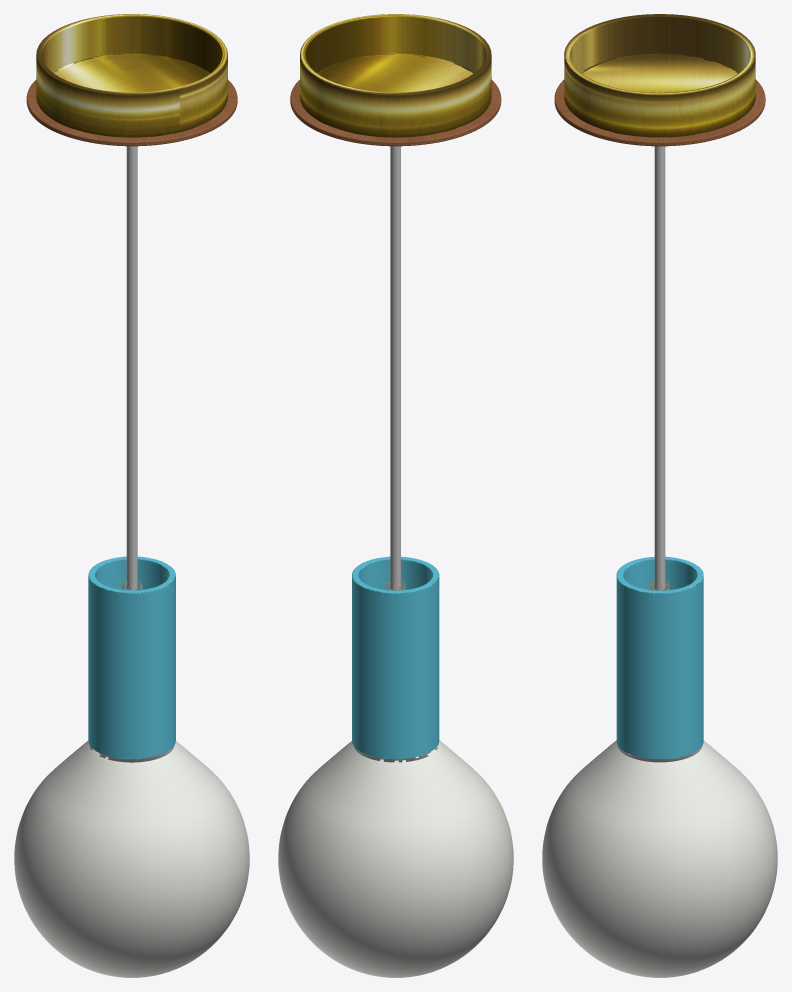
File: lampara.obj
The picture shows the model from 3 angles, left to right: view 1: azimuth 30°, elevation 25°; view 2: azimuth 150°, elevation 25°; view 3: azimuth 270°, elevation 25°; orthographic projection.
Visible parts, largest first — view 1: pinch_125_wishnya.002; view 2: pinch_125_wishnya.002; view 3: pinch_125_wishnya.002.
Part boxes in pixels (<box>): pinch_125_wishnya.002: <box>14,14,249,977</box>; pinch_125_wishnya.002: <box>278,14,513,977</box>; pinch_125_wishnya.002: <box>542,14,777,977</box>.
Bounding box in the file's own units: 0.8456 × 3.62 × 0.8447.
